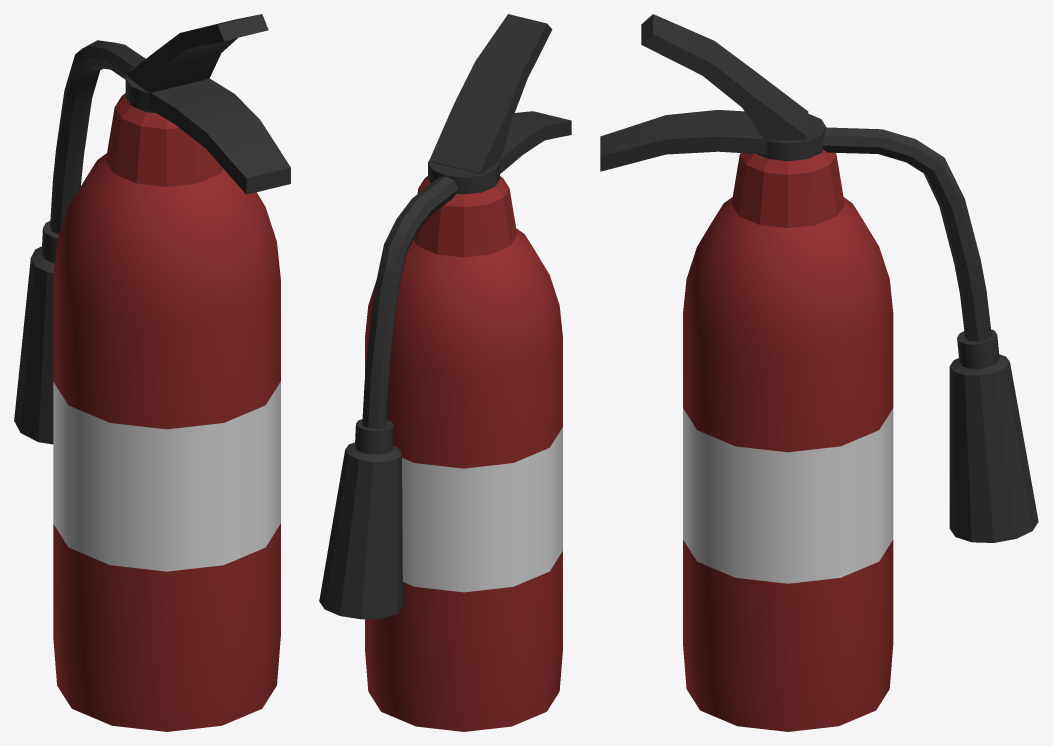
File: FireExtinguisher.FBX
3 views of the same model, side by side, from view 1: azimuth 30°, elevation 25°; view 2: azimuth 150°, elevation 25°; view 3: azimuth 270°, elevation 25° (orthographic). The views are drawn at different scales.
Parts seen in each view (by area): view 1: FireExtinguisher; view 2: FireExtinguisher; view 3: FireExtinguisher.
Boxes of the visible parts, x1,y1,x2,y2 form: FireExtinguisher: [14, 14, 290, 731]; FireExtinguisher: [319, 14, 571, 731]; FireExtinguisher: [600, 14, 1038, 731].
Size of the model in its own units: 21.94 by 76.51 by 45.7.
